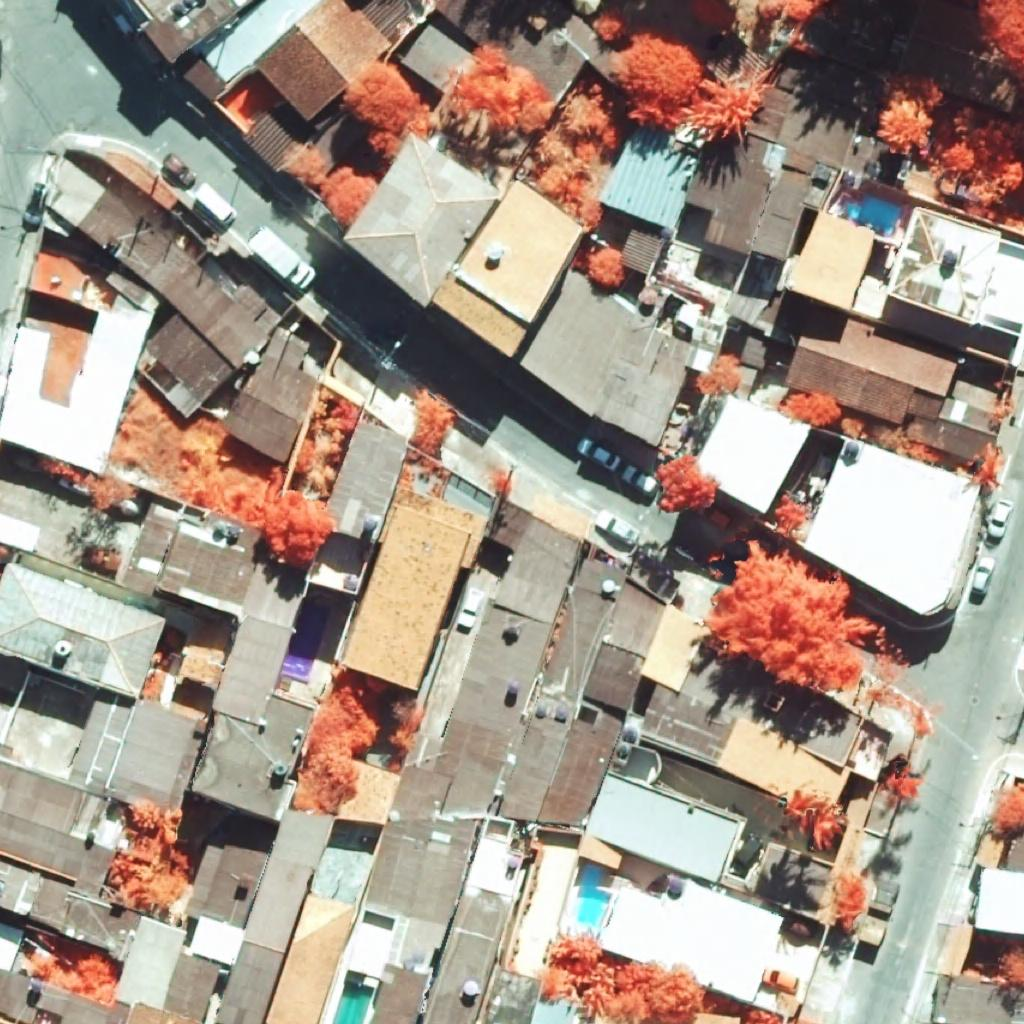pool: (847, 196, 900, 235), (577, 866, 606, 927), (333, 981, 374, 1024)
